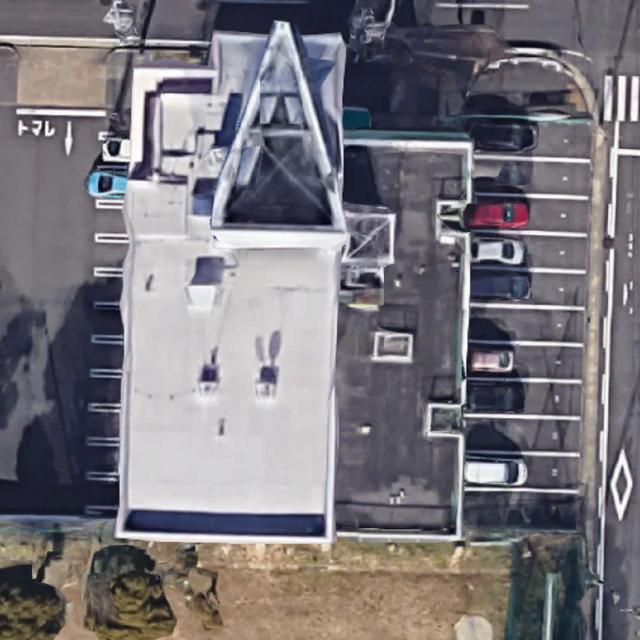Batiment: (116, 21, 348, 542), (335, 140, 467, 541)
